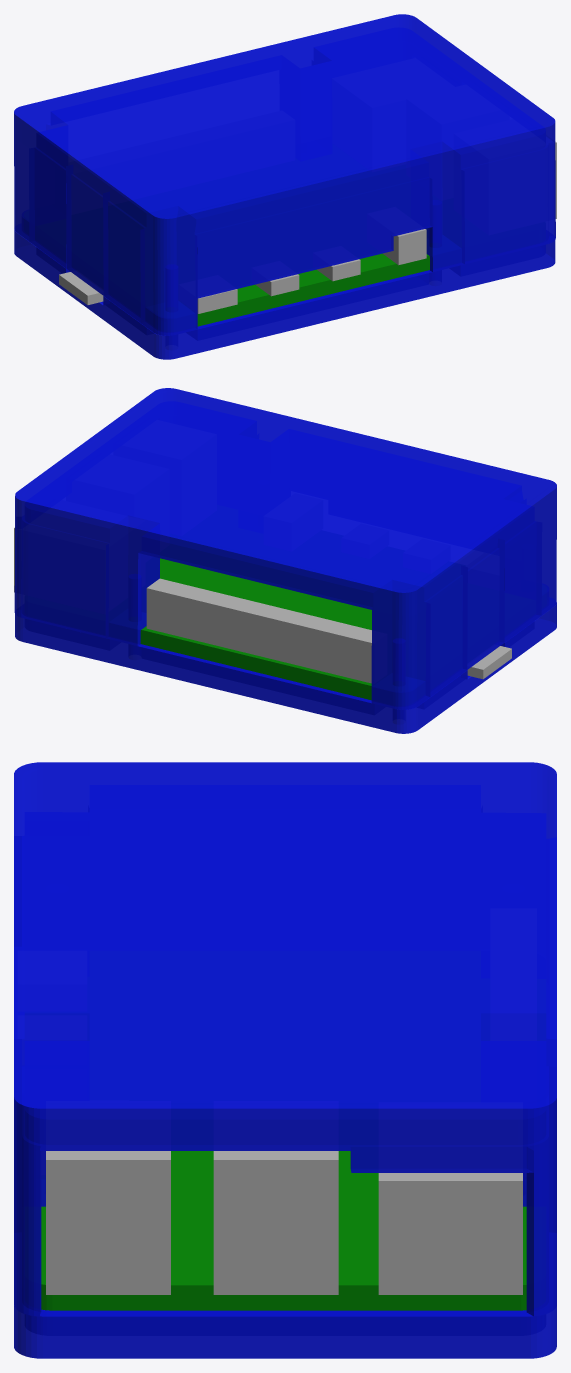
Rendered from rPi4_case_v1.glb.
The picture shows the model from 3 angles, top to bottom: view 1: azimuth 30°, elevation 25°; view 2: azimuth 150°, elevation 25°; view 3: azimuth 270°, elevation 25°; orthographic projection. The views are drawn at different scales.
Visible parts, largest first — view 1: 2-Case-top, 3-Case-btm, 1-Raspberry; view 2: 2-Case-top, 1-Raspberry, 3-Case-btm; view 3: 2-Case-top, 1-Raspberry, 3-Case-btm.
Part boxes in pixels (x1,y1,x2,y2): 2-Case-top: [14, 14, 555, 335]; 3-Case-btm: [14, 229, 555, 359]; 1-Raspberry: [59, 141, 556, 326]; 2-Case-top: [14, 388, 556, 709]; 1-Raspberry: [14, 527, 511, 700]; 3-Case-btm: [15, 602, 556, 733]; 2-Case-top: [14, 762, 556, 1316]; 1-Raspberry: [41, 1151, 526, 1310]; 3-Case-btm: [14, 1253, 556, 1358].
Size of the model in its own units: 0.0915 by 0.0296 by 0.0583.
